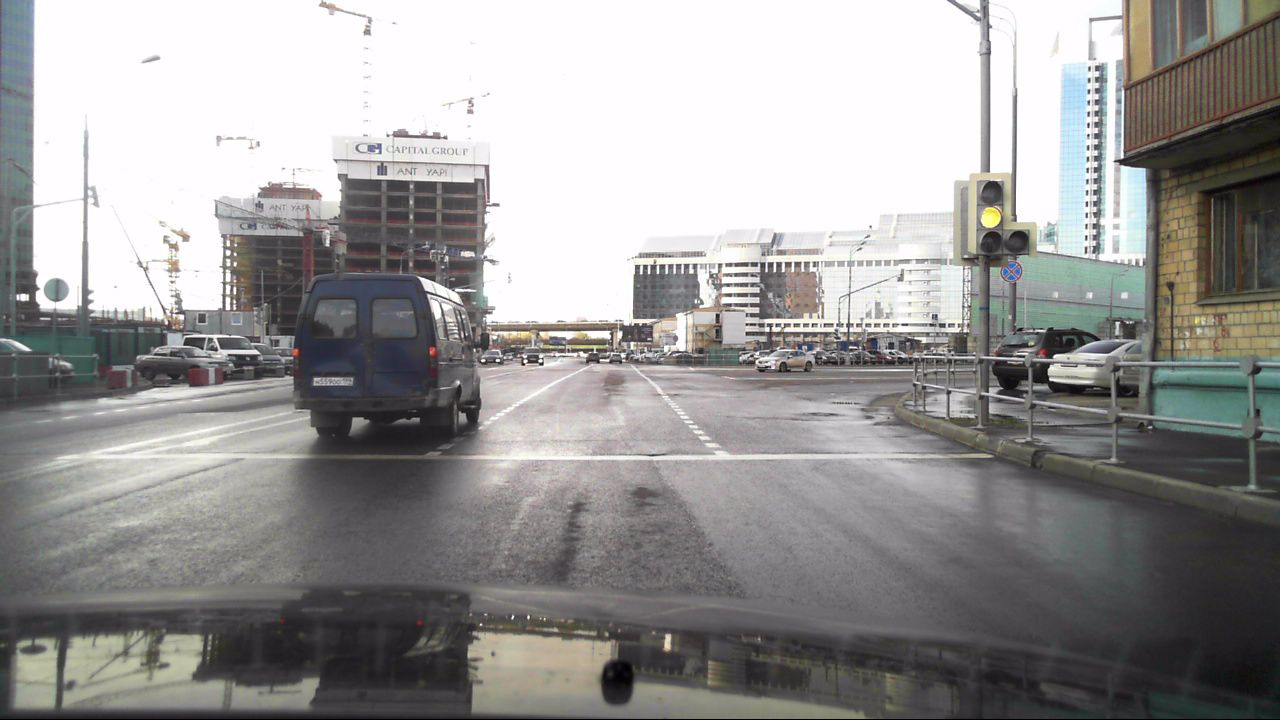No Parking: (996, 259, 1022, 283)
